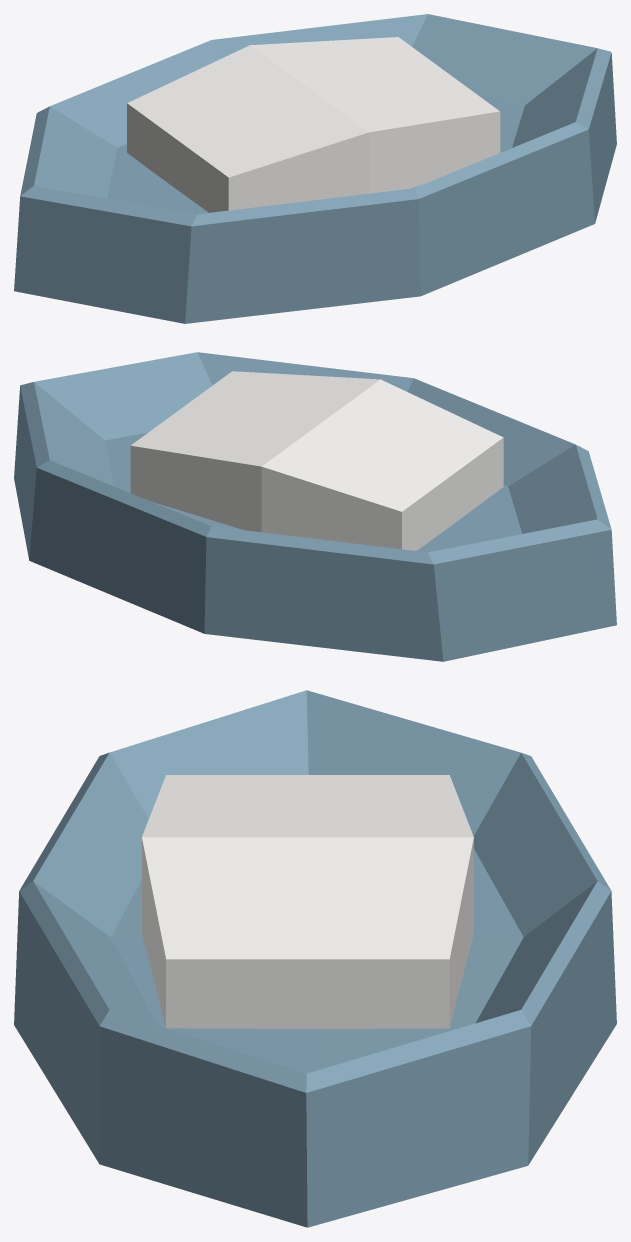
The model's file is Soap_2.fbx.
3 renders of one model, top to bottom at view 1: azimuth 30°, elevation 25°; view 2: azimuth 150°, elevation 25°; view 3: azimuth 270°, elevation 25°, orthographic. The views are drawn at different scales.
Parts seen in each view (by area): view 1: Soap_2; view 2: Soap_2; view 3: Soap_2.
Boxes of the visible parts, x1,y1,x2,y2 form: Soap_2: (14,14,616,323); Soap_2: (14,352,616,661); Soap_2: (14,690,616,1227).
Size of the model in its own units: 28.06 by 17.43 by 5.86.
